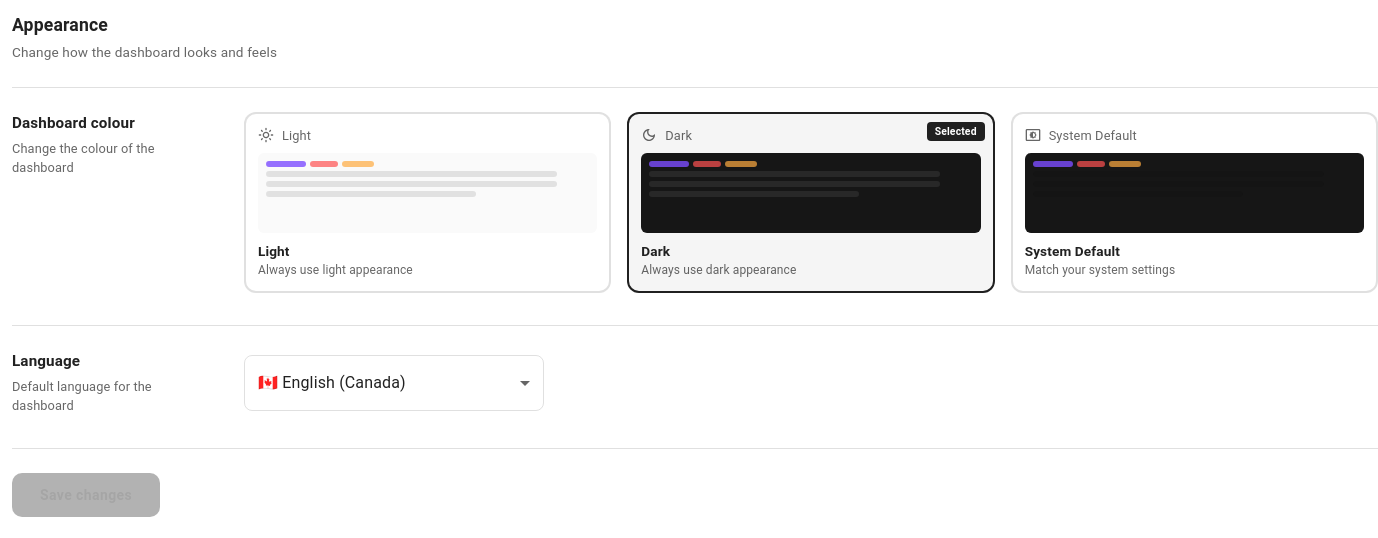
AppearanceTab › cancel clears preview and hides cancel button
What coordinates should you click on to do the following:
click the text "Always use light appearance"
I would click on:
 (335, 270)
Its box is [258,263,413,277].
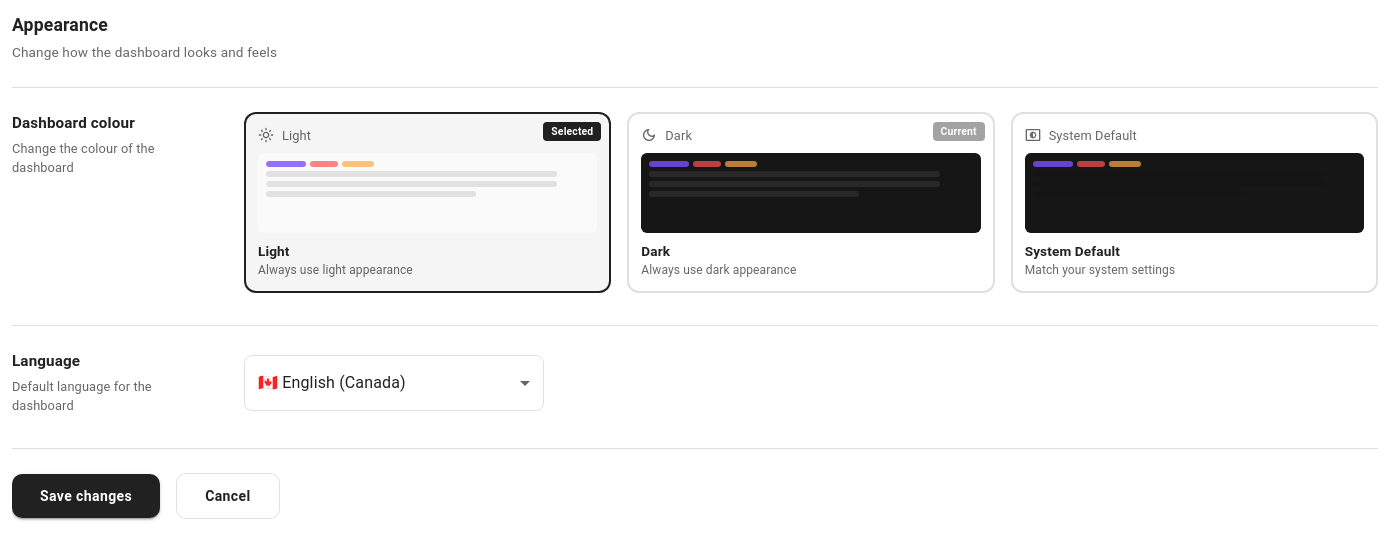
What coordinates should you click on to do the following:
click the button "Cancel"
I would click on:
 (228, 496)
Its box is [176,472,280,519].
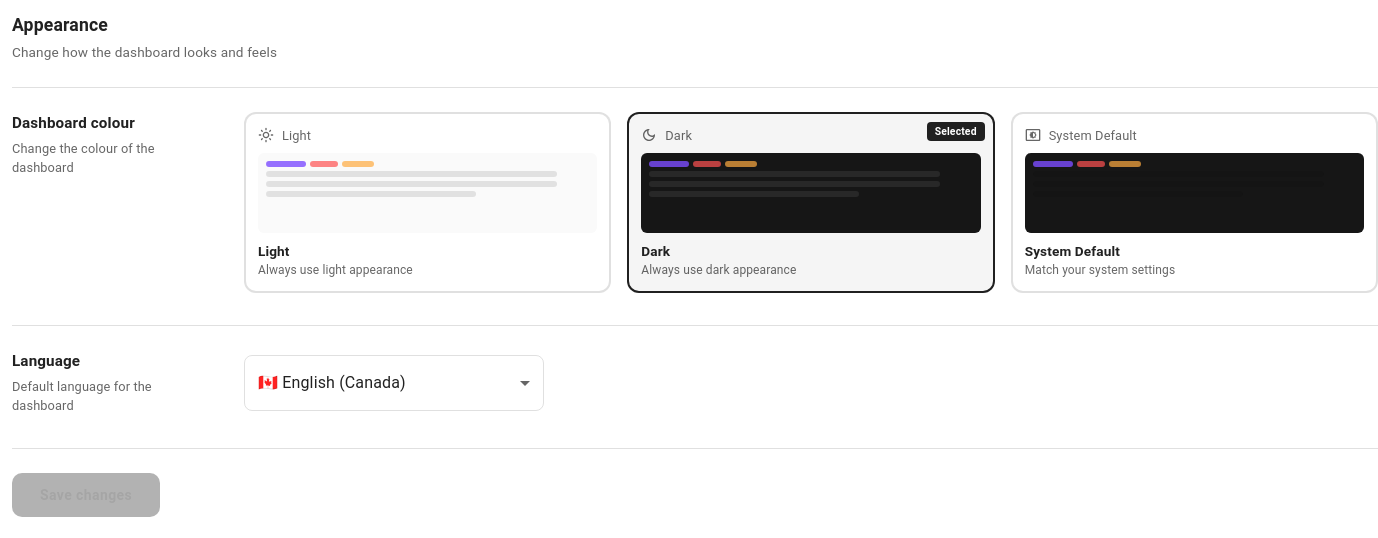
Expected: the button "Cancel" is gone
